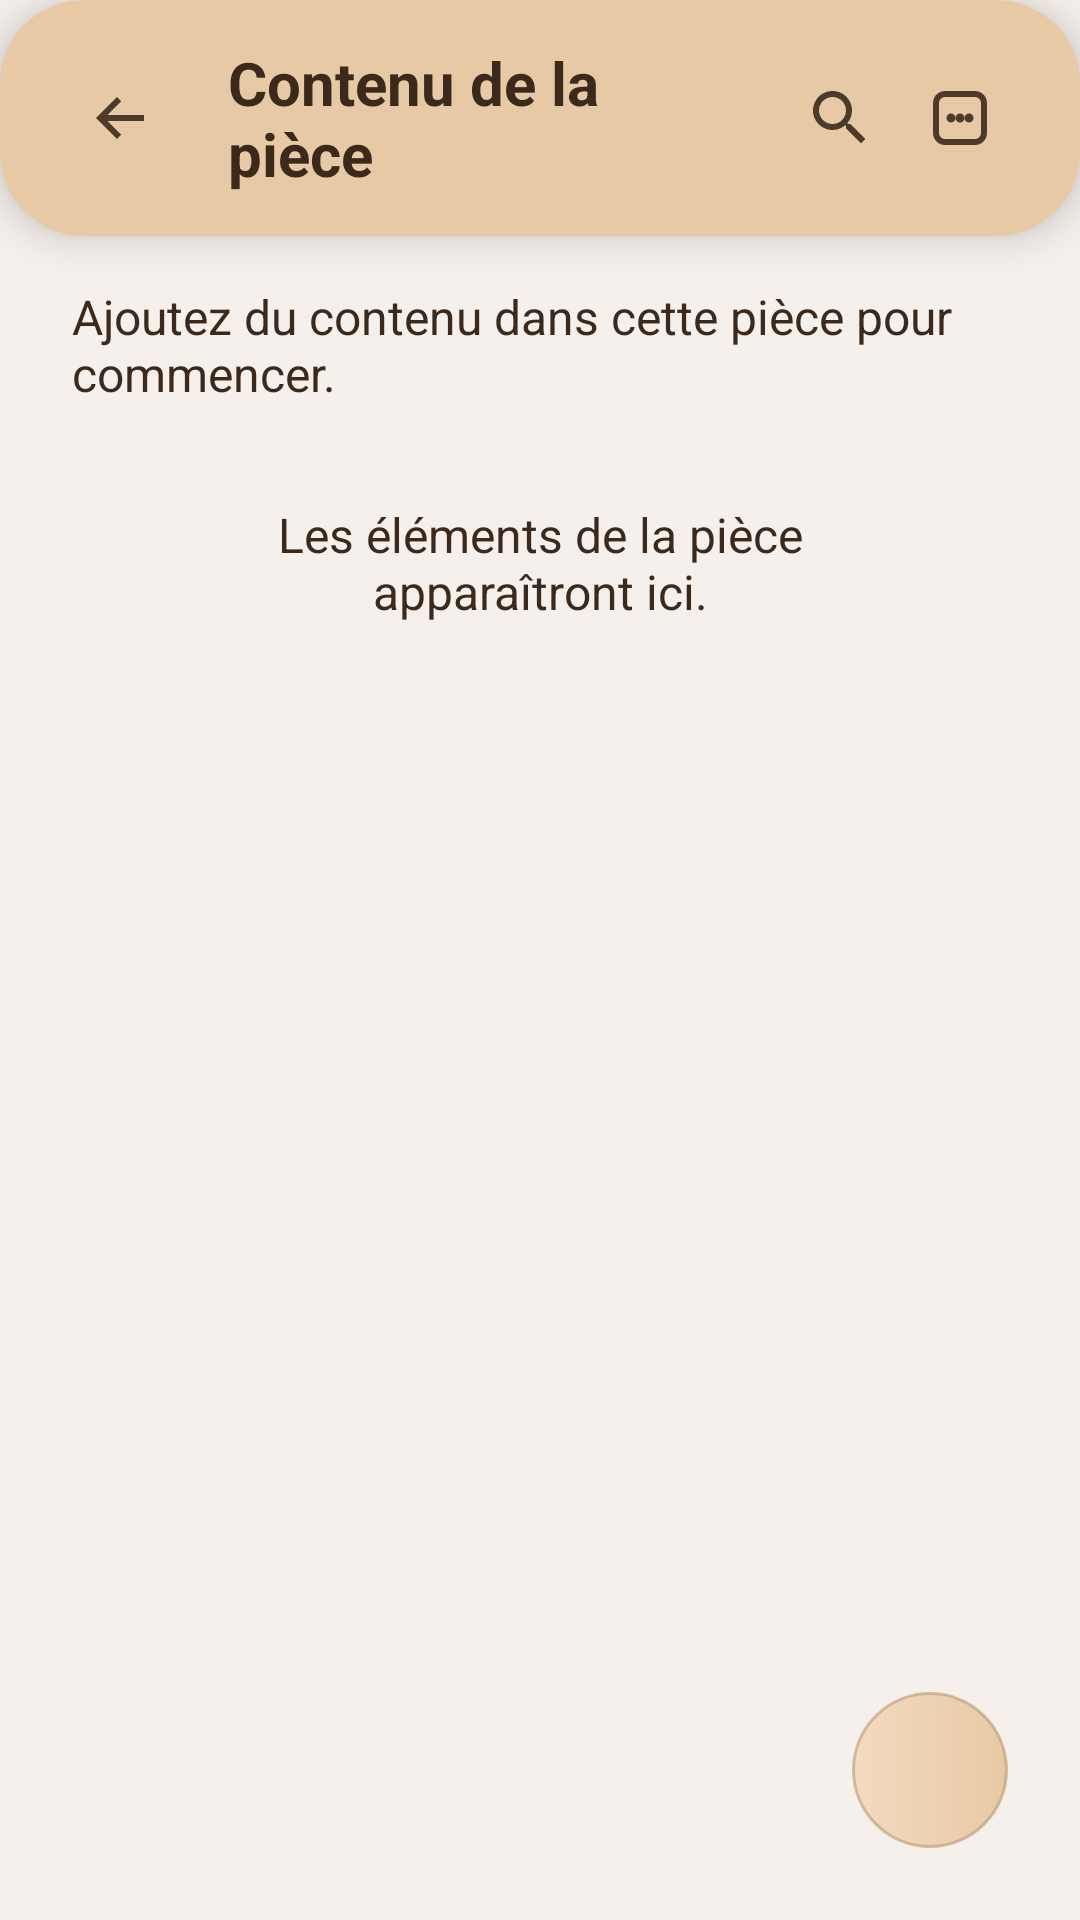

Screen size 1080px×1920px. Icon name, then its center in pixels as (x=x, y=y):
Rechercher: (x=839, y=117)
Retour: (x=120, y=118)
